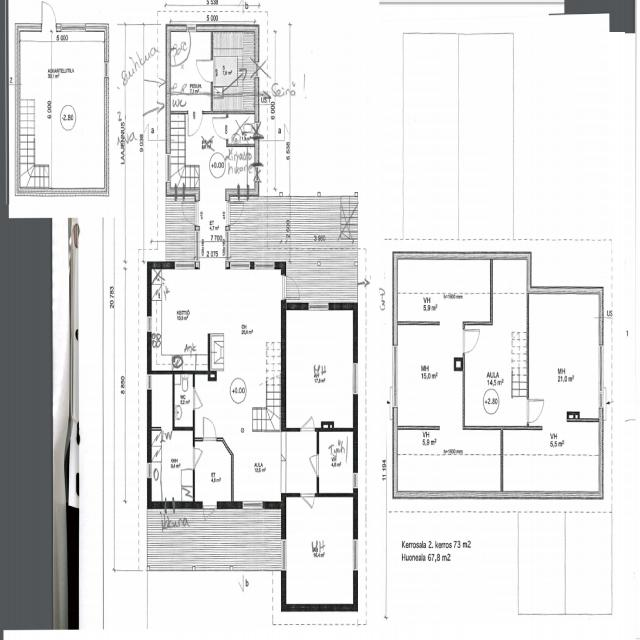door: (41, 1, 56, 32), (180, 202, 200, 225), (281, 276, 300, 299), (225, 202, 244, 225), (185, 114, 201, 140), (462, 330, 480, 353), (526, 400, 544, 422), (197, 59, 213, 82), (203, 501, 216, 529), (196, 93, 210, 117), (301, 493, 314, 518), (192, 388, 208, 408), (301, 408, 314, 432), (192, 448, 207, 468), (203, 418, 216, 441), (304, 456, 318, 476)
